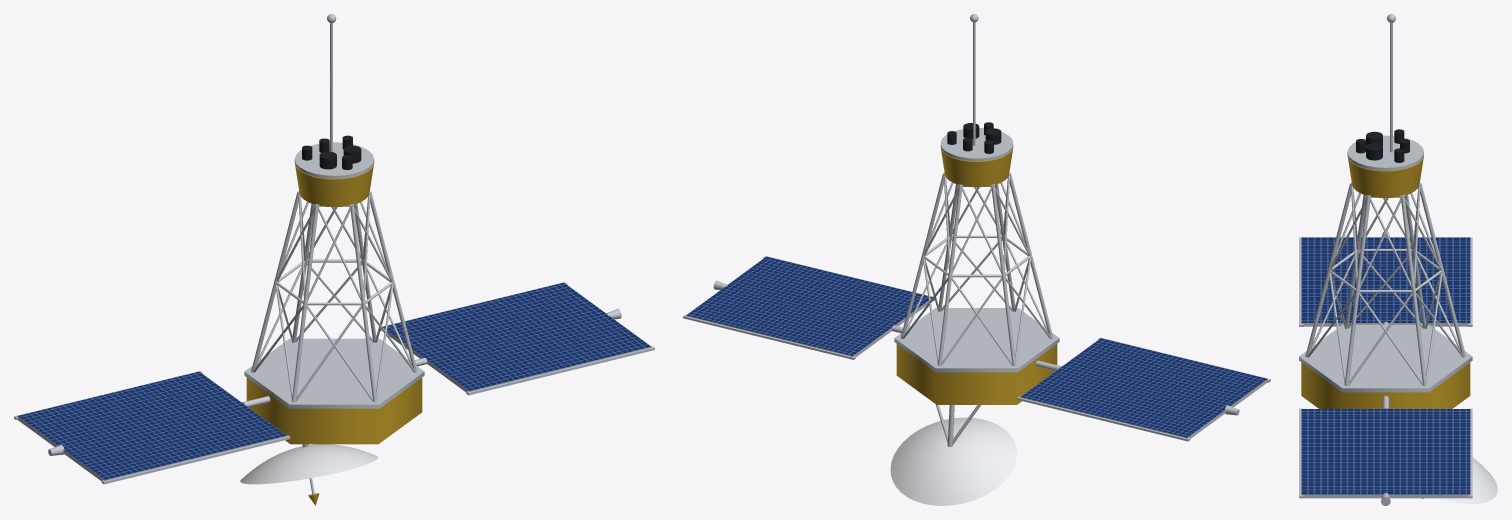
File: ranger-7.glb
3 views of the same model, side by side, from view 1: azimuth 30°, elevation 25°; view 2: azimuth 150°, elevation 25°; view 3: azimuth 270°, elevation 25° (orthographic). The views are drawn at different scales.
Parts seen in each view (by area): view 1: SolarPanel_NegX_Array, SolarPanel_PosX_Array, Tower, Body_HexRim, Body_HexBus, HGA_Dish, Camera_Housing, Camera_TopPlate, SolarPanel_NegX, SolarPanel_PosX; view 2: SolarPanel_NegX_Array, SolarPanel_PosX_Array, Tower, HGA_Dish, Body_HexRim, Body_HexBus, Camera_Housing, Camera_TopPlate, SolarPanel_NegX, SolarPanel_PosX; view 3: SolarPanel_PosX_Array, SolarPanel_NegX_Array, Tower, Body_HexRim, Body_HexBus, Camera_Housing, Camera_TopPlate, HGA_Dish, SolarPanel_PosX, SolarPanel_NegX, Omni_Mast, Camera_Lens_WideB.
Part boxes in pixels (<box>): SolarPanel_NegX_Array: <box>17,371,287,480</box>; SolarPanel_PosX_Array: <box>382,282,651,392</box>; Tower: <box>251,191,417,402</box>; Body_HexRim: <box>244,338,424,408</box>; Body_HexBus: <box>246,378,422,444</box>; HGA_Dish: <box>240,444,378,484</box>; Camera_Housing: <box>295,164,373,207</box>; Camera_TopPlate: <box>294,142,374,178</box>; SolarPanel_NegX: <box>14,371,290,484</box>; SolarPanel_PosX: <box>380,282,654,395</box>; SolarPanel_NegX_Array: <box>1020,338,1267,438</box>; SolarPanel_PosX_Array: <box>686,256,932,356</box>; Tower: <box>900,172,1053,366</box>; HGA_Dish: <box>890,417,1017,505</box>; Body_HexRim: <box>894,308,1059,372</box>; Body_HexBus: <box>896,344,1057,404</box>; Camera_Housing: <box>940,147,1013,187</box>; Camera_TopPlate: <box>940,128,1013,161</box>; SolarPanel_NegX: <box>1017,337,1270,441</box>; SolarPanel_PosX: <box>683,256,934,359</box>; SolarPanel_PosX_Array: <box>1301,409,1470,498</box>; SolarPanel_NegX_Array: <box>1301,237,1470,326</box>; Tower: <box>1305,182,1465,385</box>; Body_HexRim: <box>1299,324,1472,392</box>; Body_HexBus: <box>1301,362,1470,408</box>; Camera_Housing: <box>1347,156,1423,198</box>; Camera_TopPlate: <box>1347,135,1423,170</box>; HGA_Dish: <box>1439,457,1497,503</box>; SolarPanel_PosX: <box>1299,408,1472,498</box>; SolarPanel_NegX: <box>1299,237,1472,326</box>; Omni_Mast: <box>1390,23,1392,152</box>; Camera_Lens_WideB: <box>1366,143,1382,160</box>.
Size of the model in its own units: 5.62 by 4.75 by 1.77.
5 materials, 1 textured.
